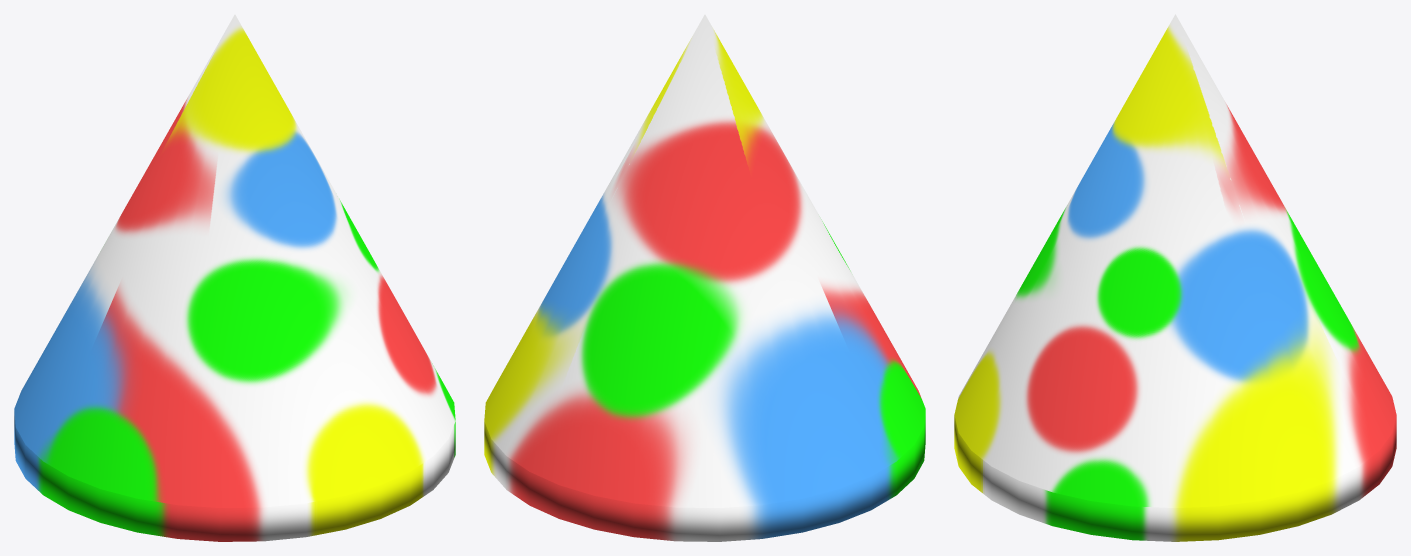
Rendered from Party Hat.glb.
3 renders of one model, left to right at view 1: azimuth 30°, elevation 25°; view 2: azimuth 150°, elevation 25°; view 3: azimuth 270°, elevation 25°, orthographic.
Parts seen in each view (by area): view 1: Cone; view 2: Cone; view 3: Cone.
Boxes of the visible parts, x1,y1,x2,y2 form: Cone: [14, 14, 455, 541]; Cone: [484, 14, 925, 541]; Cone: [954, 14, 1396, 541].
Bounding box in the file's own units: 1.93 × 2.1 × 1.93.
1 material, 1 textured.
